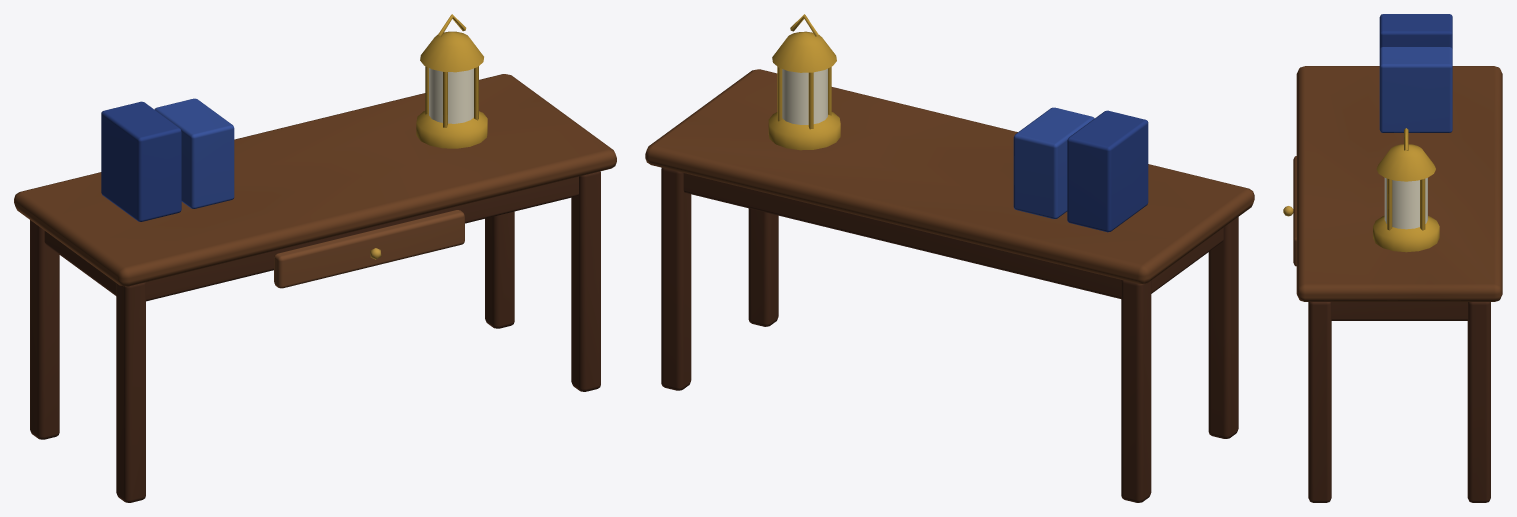
The model's file is furn_lh_desk.glb.
3 renders of one model, left to right at view 1: azimuth 30°, elevation 25°; view 2: azimuth 150°, elevation 25°; view 3: azimuth 270°, elevation 25°, orthographic. The views are drawn at different scales.
Parts seen in each view (by area): view 1: furn_lh_desk_main, furn_lh_desk_clear; view 2: furn_lh_desk_main, furn_lh_desk_clear; view 3: furn_lh_desk_main, furn_lh_desk_clear.
Boxes of the visible parts, bbox=[...] form: furn_lh_desk_main: bbox=[14, 14, 616, 502]; furn_lh_desk_clear: bbox=[429, 68, 473, 123]; furn_lh_desk_main: bbox=[645, 14, 1254, 502]; furn_lh_desk_clear: bbox=[782, 68, 827, 124]; furn_lh_desk_main: bbox=[1283, 14, 1502, 502]; furn_lh_desk_clear: bbox=[1384, 178, 1427, 229].
Bounding box in the file's own units: 1.6 × 1.11 × 0.6603.
